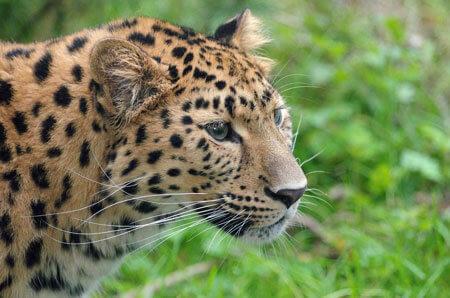amur_leopard: (4, 8, 319, 291)
